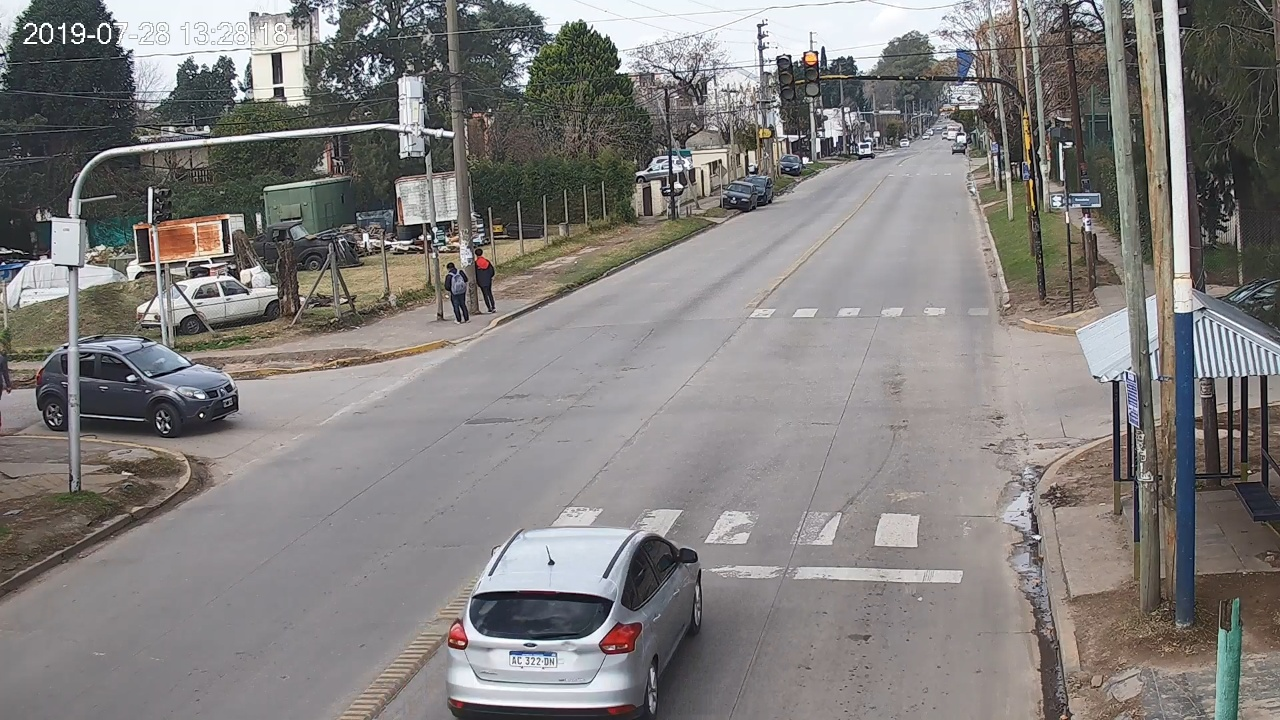car: (447, 528, 703, 720)
front car: (36, 337, 239, 437)
traffic light: (804, 51, 820, 97)
